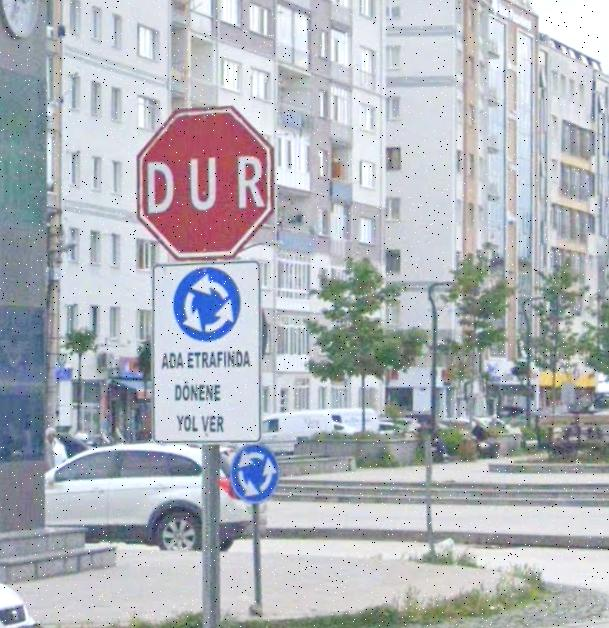crossroads: (162, 263, 255, 346)
stop: (138, 106, 280, 256)
